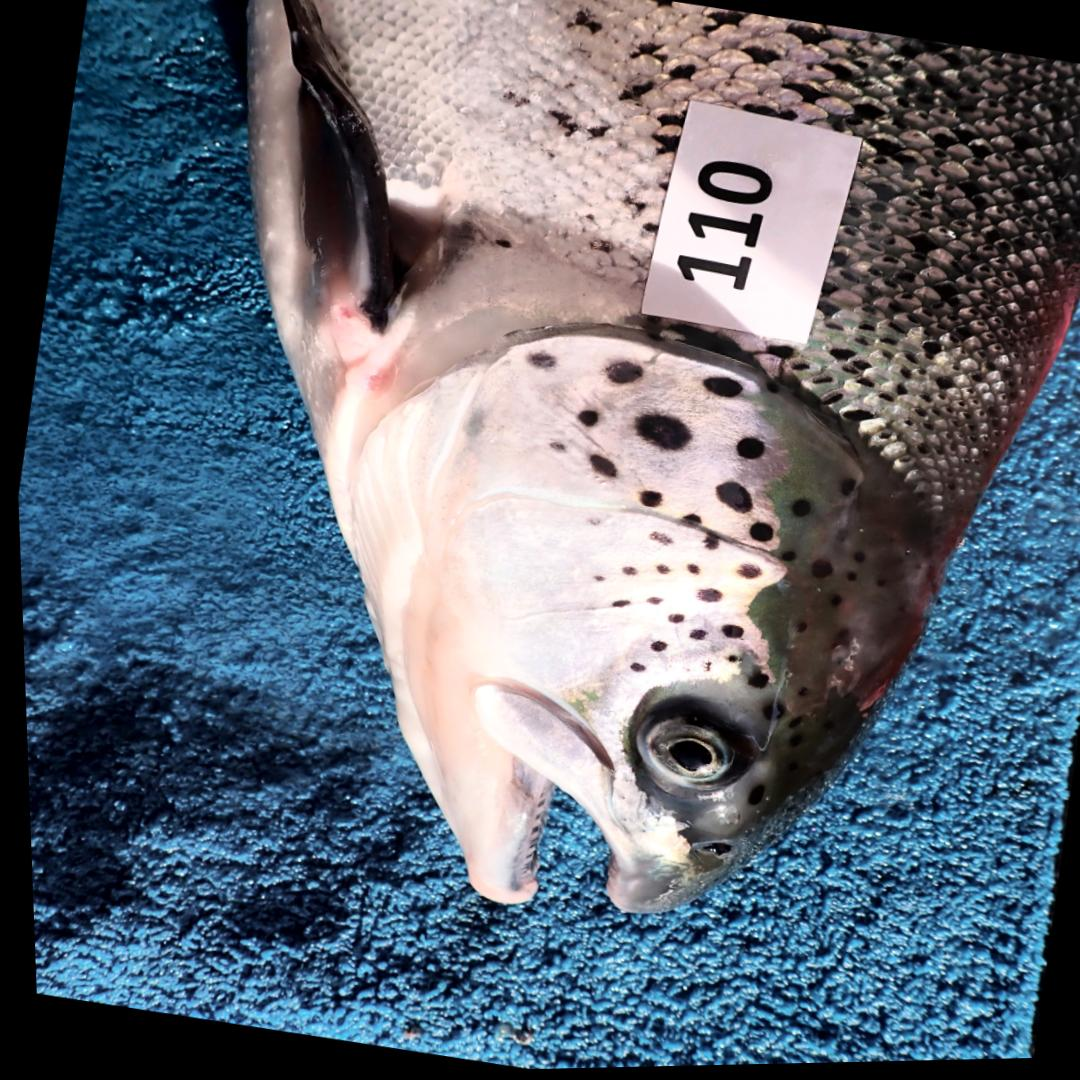spot: (631, 415, 688, 453), (712, 483, 748, 515), (601, 362, 640, 386), (699, 378, 739, 400), (459, 410, 482, 440), (585, 455, 613, 479), (732, 440, 762, 462), (744, 524, 770, 545), (525, 352, 553, 371), (635, 492, 658, 510), (732, 565, 756, 582), (574, 410, 595, 428), (741, 674, 763, 691), (691, 590, 717, 604), (715, 626, 738, 641), (644, 534, 667, 547), (698, 536, 716, 552), (719, 652, 737, 666), (676, 515, 696, 527), (582, 515, 597, 529), (544, 442, 562, 453), (685, 630, 700, 643), (680, 566, 695, 578), (651, 565, 666, 577), (625, 663, 640, 675), (645, 643, 661, 654), (662, 615, 679, 625), (641, 597, 658, 606), (608, 600, 623, 609), (616, 569, 631, 578), (698, 662, 707, 675), (589, 577, 600, 584)
